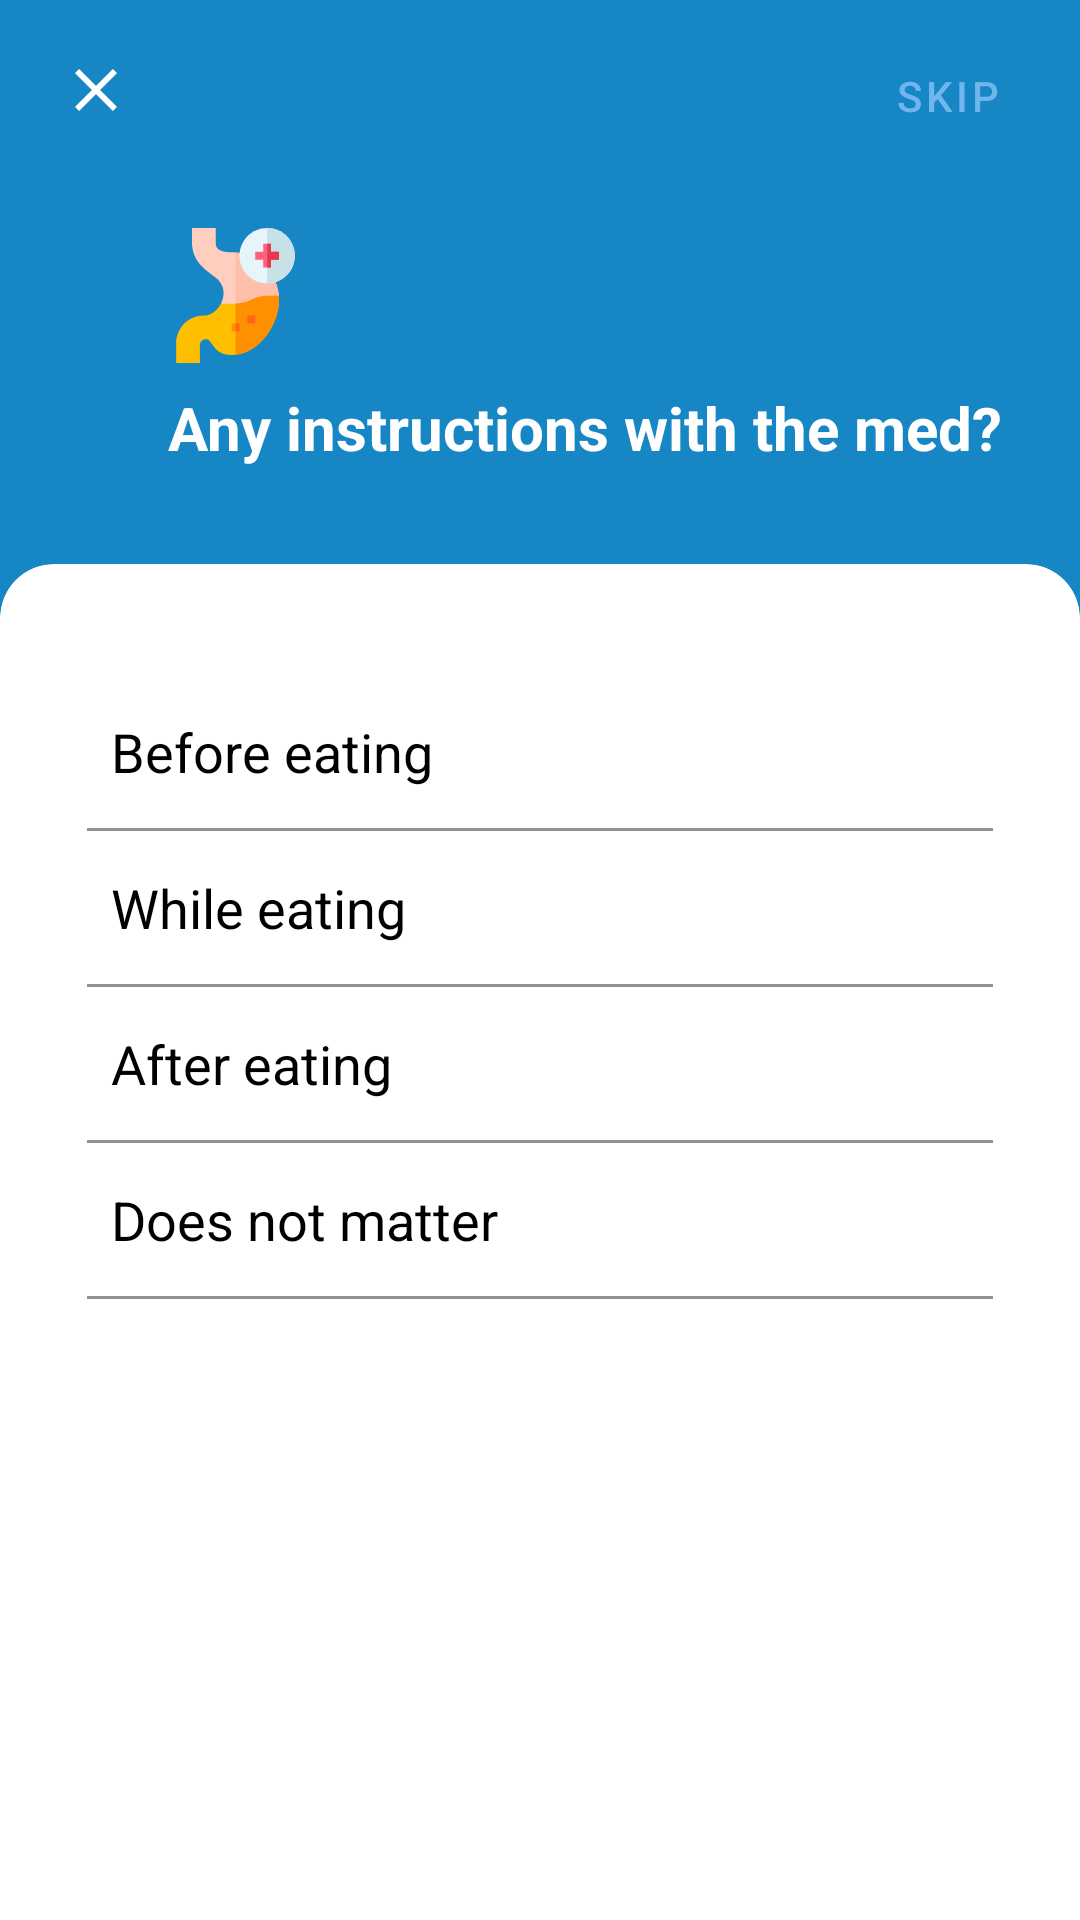

Icon bounding boxes for this 1080 x 1920 phone screenshot, format (x1, y1, x2, y2):
Close: (75, 69, 117, 111)
